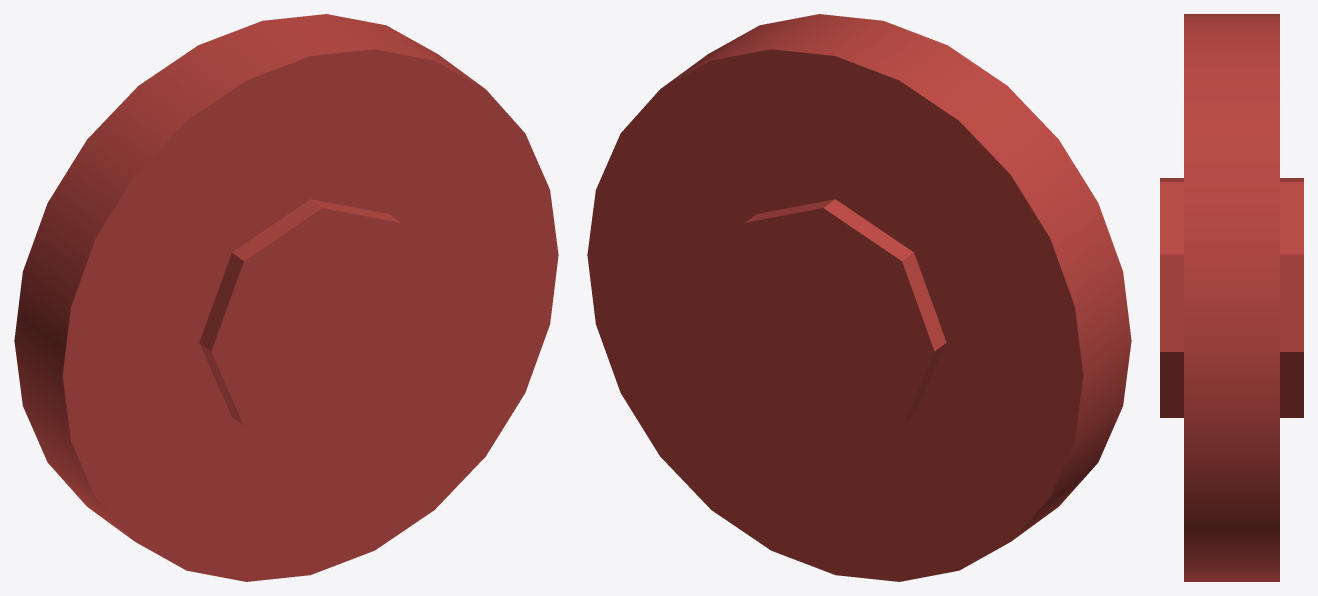
The model's file is front_14_lod1.glb.
3 renders of one model, left to right at view 1: azimuth 30°, elevation 25°; view 2: azimuth 150°, elevation 25°; view 3: azimuth 270°, elevation 25°, orthographic.
Parts seen in each view (by area): view 1: front_14_lod1; view 2: front_14_lod1; view 3: front_14_lod1.
Boxes of the visible parts, x1,y1,x2,y2 form: front_14_lod1: [14, 14, 558, 581]; front_14_lod1: [587, 14, 1131, 581]; front_14_lod1: [1160, 14, 1303, 581].
Size of the model in its own units: 0.0713 by 0.0713 by 0.018.
